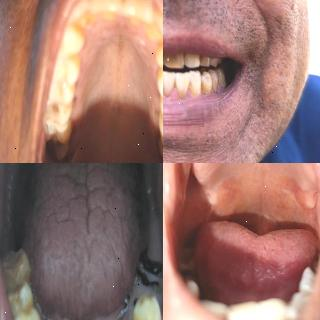calculus: (217, 74, 227, 90)
stains: (7, 276, 27, 311), (50, 94, 76, 120), (66, 18, 86, 50), (144, 16, 162, 48), (16, 301, 44, 320), (126, 8, 146, 32), (66, 48, 82, 78), (98, 6, 116, 27), (81, 5, 95, 31), (187, 80, 201, 100), (66, 80, 78, 103), (163, 77, 175, 99), (179, 78, 191, 100), (153, 111, 163, 135), (154, 63, 163, 88), (155, 34, 163, 62), (200, 80, 212, 98), (156, 137, 163, 157), (157, 94, 163, 116)
